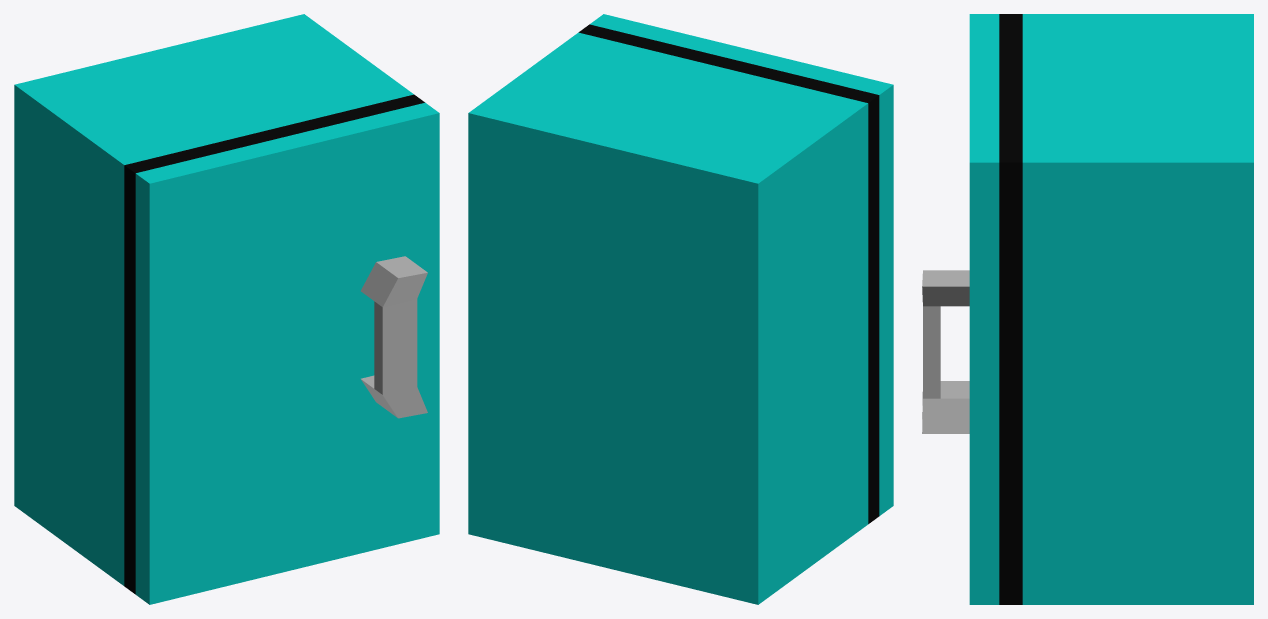
The model's file is Almacenas2.fbx.
The picture shows the model from 3 angles, left to right: view 1: azimuth 30°, elevation 25°; view 2: azimuth 150°, elevation 25°; view 3: azimuth 270°, elevation 25°; orthographic projection. The views are drawn at different scales.
Visible parts, largest first — view 1: AlmacenIzq; view 2: AlmacenIzq; view 3: AlmacenIzq.
Boxes of the visible parts, x1=… form: AlmacenIzq: x1=14, y1=14, x2=439, y2=604; AlmacenIzq: x1=468, y1=14, x2=893, y2=604; AlmacenIzq: x1=922, y1=14, x2=1253, y2=604.
Bounding box in the file's own units: 200 × 278 × 189.
